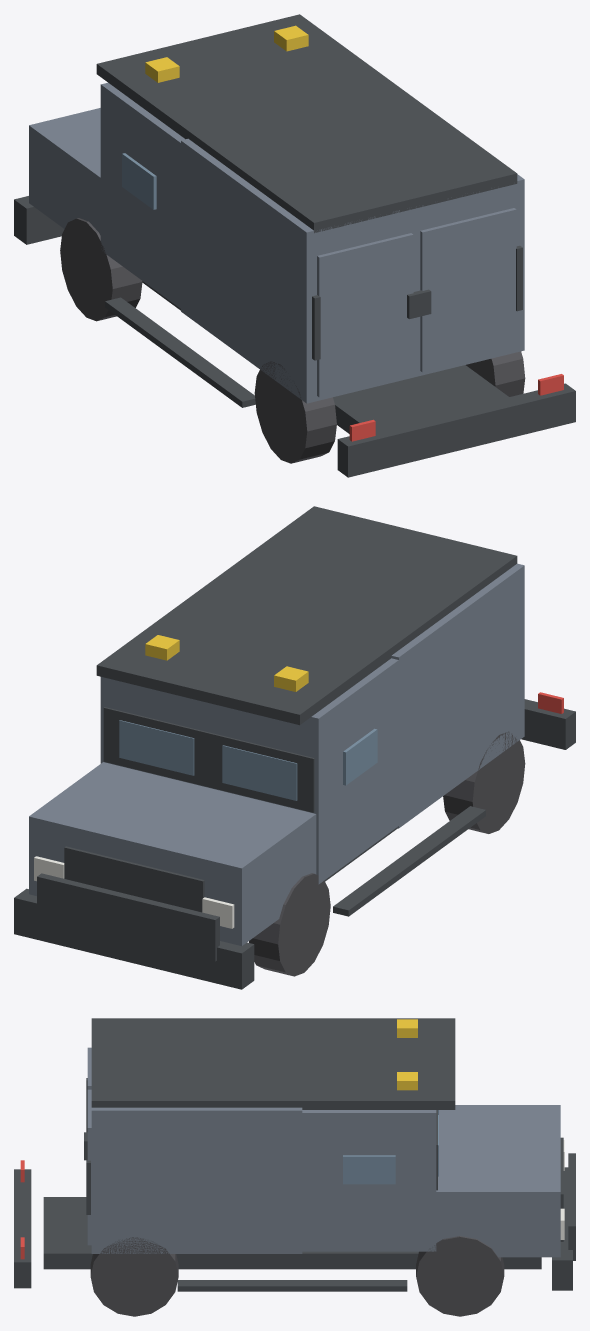
File: armored_truck.glb
3 views of the same model, one above another, from view 1: azimuth 30°, elevation 25°; view 2: azimuth 150°, elevation 25°; view 3: azimuth 270°, elevation 25° (orthographic). The views are drawn at different scales.
Parts seen in each view (by area): view 1: Body, Wheel_RL, Wheel_FL, Wheel_RR; view 2: Body, Wheel_FL, Wheel_RL; view 3: Body, Wheel_FR, Wheel_RR.
Boxes of the visible parts, bbox=[...] form: Body: bbox=[14, 14, 575, 477]; Wheel_RL: bbox=[254, 361, 336, 463]; Wheel_FL: bbox=[60, 218, 142, 321]; Wheel_RR: bbox=[466, 351, 525, 396]; Body: bbox=[14, 506, 575, 989]; Wheel_FL: bbox=[249, 873, 330, 976]; Wheel_RL: bbox=[443, 731, 525, 833]; Body: bbox=[14, 1018, 575, 1291]; Wheel_FR: bbox=[416, 1236, 504, 1316]; Wheel_RR: bbox=[90, 1237, 178, 1316].
Bounding box in the file's own units: 2.46 × 2.56 × 5.87.
